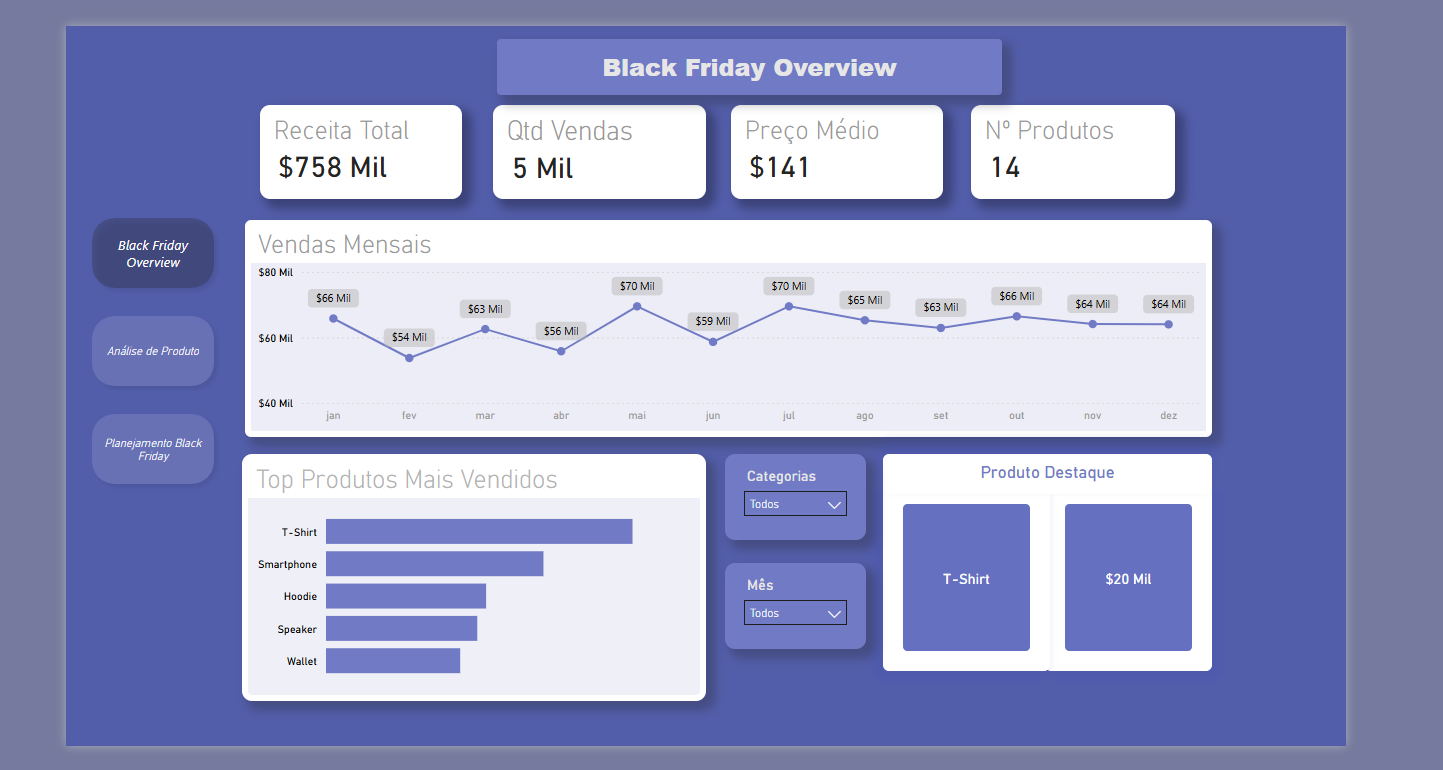

This screenshot's page, from the dashboard's own definition file:
{"tool":"powerbi","page":{"name":"Black Friday Overview","canvas":[1280,720],"ordinal":0},"visuals":[{"type":"cardVisual","title":"Qtd Vendas","fields":{"Data":["Sum(sales_data.Quantidade)"]},"box":[427,79,213,94],"z":0},{"type":"cardVisual","title":"Receita Total","fields":{"Data":["medidas.Receita Total"]},"box":[194,79,202,94],"z":1000},{"type":"cardVisual","title":"Preço Médio","fields":{"Data":["medidas.Ticket Médio"]},"box":[665,79,212,94],"z":2000},{"type":"cardVisual","title":"Nº Produtos","fields":{"Data":["sales_data.Número de Produtos"]},"box":[905,79,204,94],"z":3000},{"type":"lineChart","title":"Vendas Mensais","fields":{"Y":["Sum(sales_data.Receita)"],"Category":["sales_data.Mês"]},"box":[179,194,967,217],"z":4000},{"type":"barChart","title":"Top Produtos Mais Vendidos","fields":{"Category":["sales_data.Produto"],"Y":["medidas.TOP 5 Produtos Quantidade"]},"box":[176,428,464,247],"z":5000},{"type":"cardVisual","fields":{"Data":["medidas.Receita Total"]},"box":[979,458,167,187],"z":6000},{"type":"cardVisual","fields":{"Data":["medidas.Nome do Produto Mais Vendido"]},"box":[817,458,167,187],"z":7000},{"type":"textbox","box":[431,13,505,56],"z":8000},{"type":"textbox","box":[817,428,329,40],"z":9000},{"type":"slicer","fields":{"Values":["sales_data.Mês"]},"box":[659,537,141,86],"z":10000},{"type":"slicer","fields":{"Values":["sales_data.Categoria"]},"box":[659,428,141,86],"z":11000},{"type":"pageNavigator","box":[17,183,140,285],"z":12000}]}

Visuals, with their boxes on the page's 1280x720 design canvas (x1, y1, x2, y2). These are canvas units, not pixel positions in the 1443x770 screenshot, which may show the page scaled, cropped or inside an application window:
"Qtd Vendas" cardVisual: select_region(427, 79, 640, 173)
"Receita Total" cardVisual: select_region(194, 79, 396, 173)
"Preço Médio" cardVisual: select_region(665, 79, 877, 173)
"Nº Produtos" cardVisual: select_region(905, 79, 1109, 173)
"Vendas Mensais" lineChart: select_region(179, 194, 1146, 411)
"Top Produtos Mais Vendidos" barChart: select_region(176, 428, 640, 675)
cardVisual - medidas.Receita Total: select_region(979, 458, 1146, 645)
cardVisual - medidas.Nome do Produto Mais Vendido: select_region(817, 458, 984, 645)
textbox: select_region(431, 13, 936, 69)
textbox: select_region(817, 428, 1146, 468)
slicer - sales_data.Mês: select_region(659, 537, 800, 623)
slicer - sales_data.Categoria: select_region(659, 428, 800, 514)
pageNavigator: select_region(17, 183, 157, 468)
